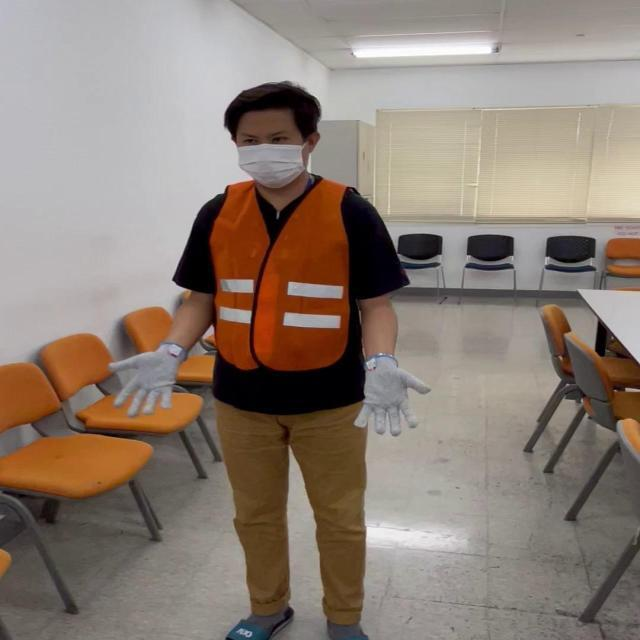gloved_hand: (103, 330, 194, 418), (360, 350, 433, 440)
